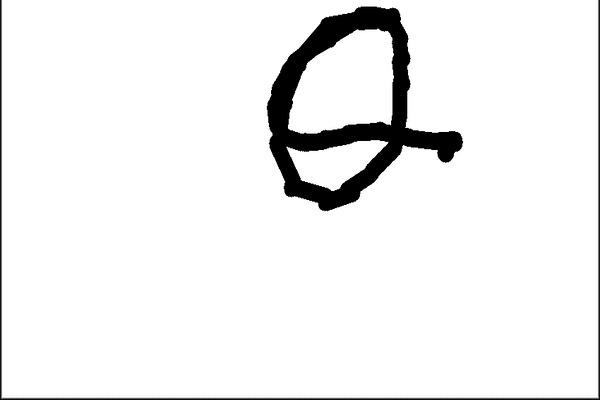Q: (255, 0, 451, 217)
